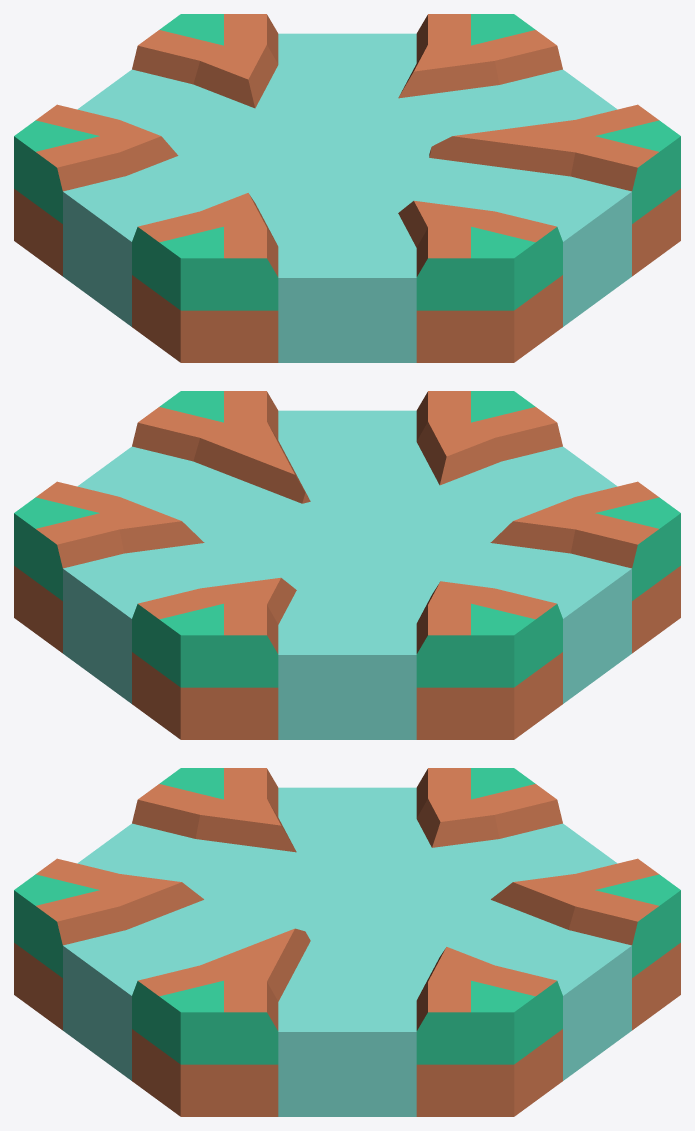
The model's file is river_crossing.fbx.
The picture shows the model from 3 angles, top to bottom: view 1: azimuth 30°, elevation 25°; view 2: azimuth 150°, elevation 25°; view 3: azimuth 270°, elevation 25°; orthographic projection.
Visible parts, largest first — view 1: river_crossing; view 2: river_crossing; view 3: river_crossing.
Boxes of the visible parts, left/top/right/bottom form: river_crossing: left=14, top=14, right=680, bottom=362; river_crossing: left=14, top=391, right=680, bottom=739; river_crossing: left=14, top=768, right=680, bottom=1116.
Bounding box in the file's own units: 10 × 2 × 11.55.
